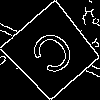C: (26, 26, 86, 86)
